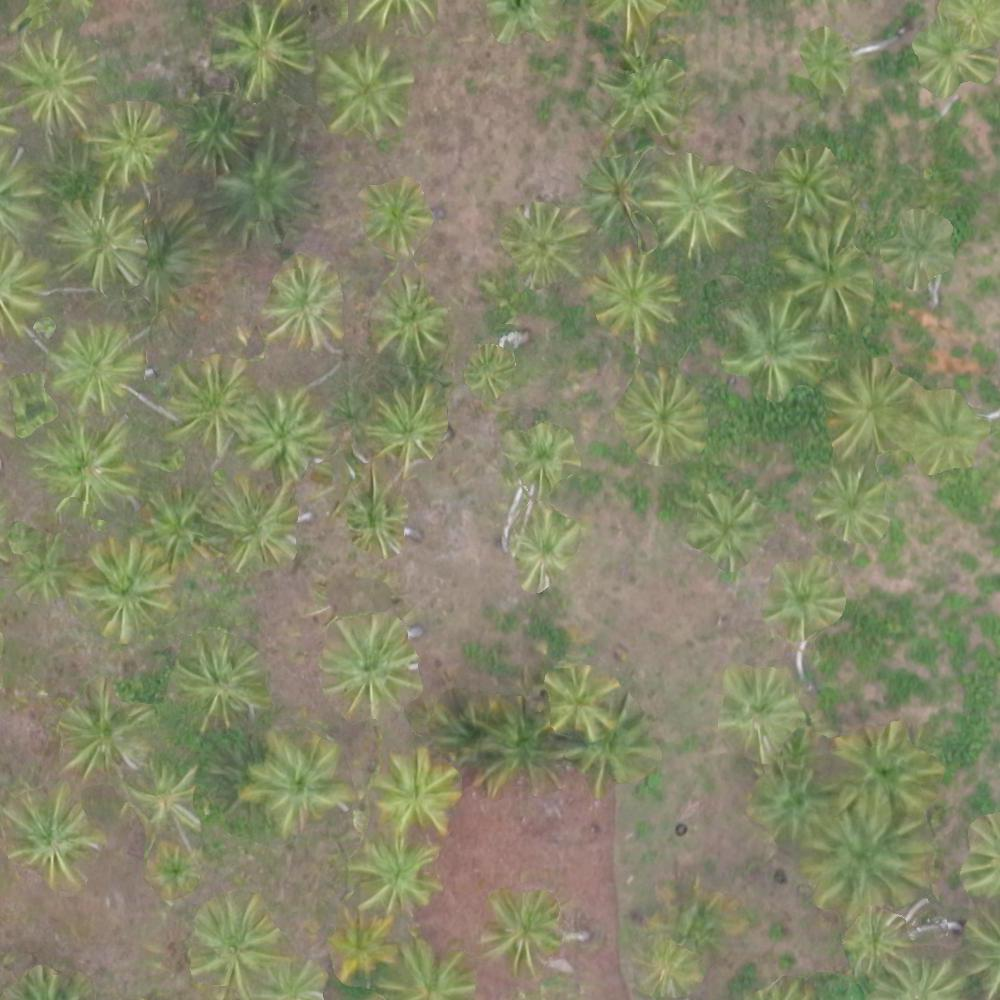not palm: (655, 788, 728, 858), (924, 589, 995, 654), (931, 514, 996, 581), (113, 1, 184, 62), (612, 552, 678, 617), (634, 615, 702, 678), (559, 818, 623, 884), (931, 660, 994, 722), (485, 811, 548, 872), (446, 56, 509, 115), (707, 1, 774, 56), (864, 112, 927, 167), (450, 127, 510, 183), (76, 907, 136, 962), (444, 595, 497, 657), (872, 638, 925, 699), (423, 537, 479, 592), (1, 625, 49, 685), (744, 422, 797, 475)
